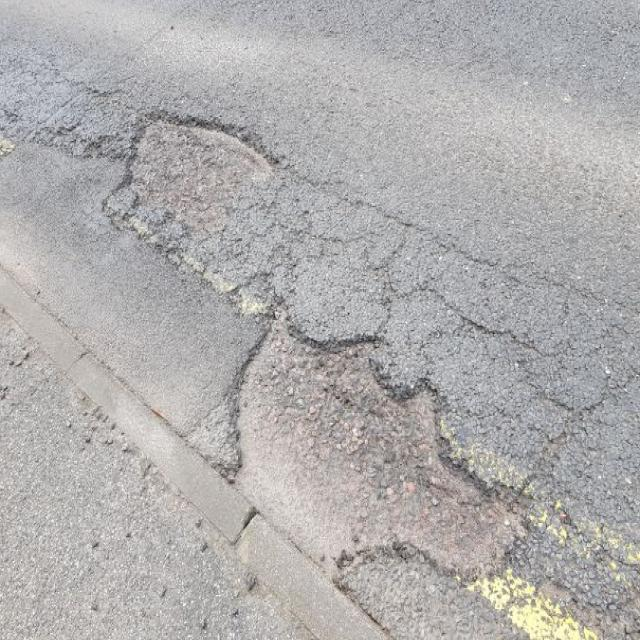pothole: (226, 292, 540, 581), (104, 103, 284, 234)
